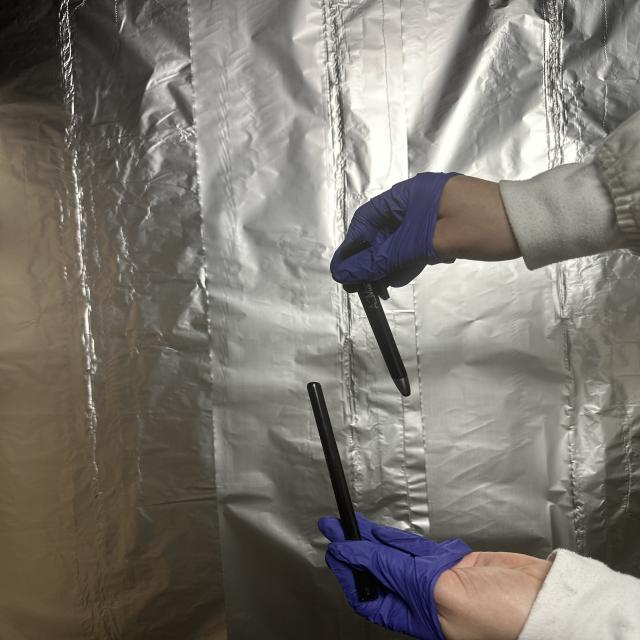glove_partial: (311, 510, 559, 640), (323, 165, 533, 295)
